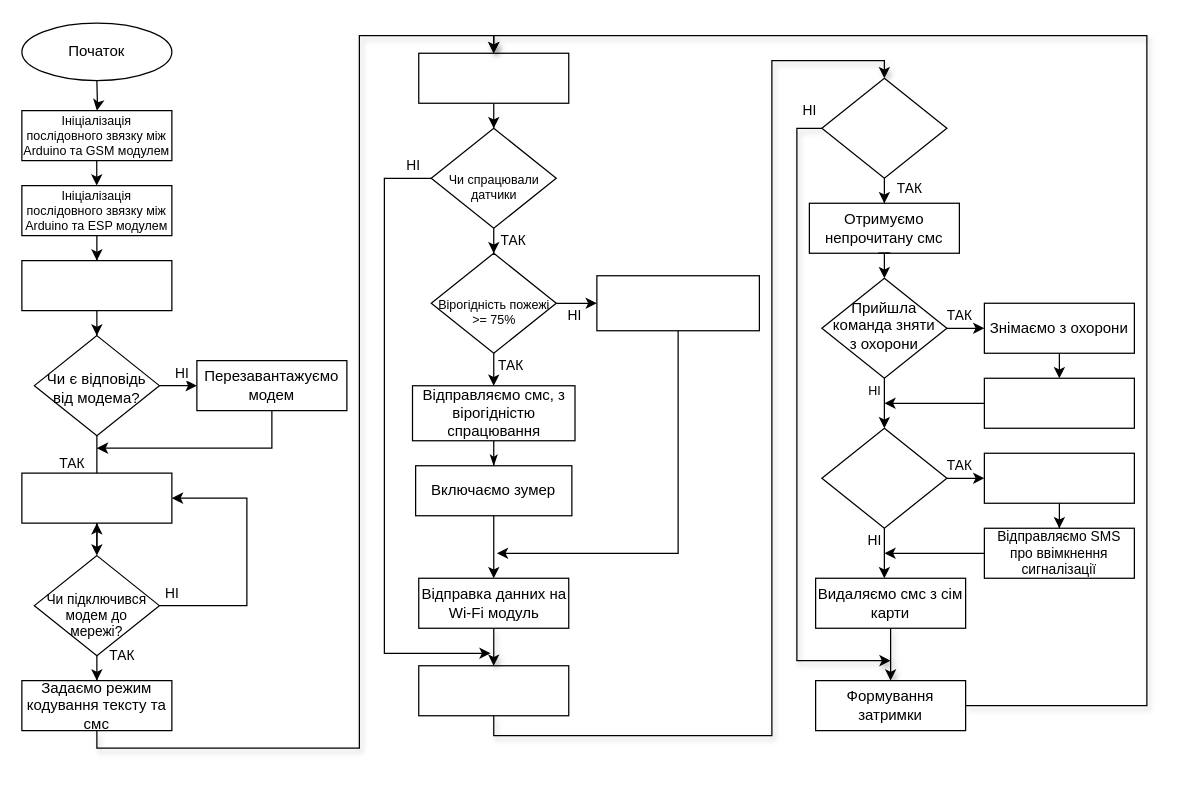
Image size: 1186x789. Some labels were removed from this diagram. Each missing label, with the centre of its shape:
"Відправляємо SMS про вимкнення сигналізації" goes at (x=1058, y=402).
"Відправляємо смс, про можливе хибне спрацювання" goes at (x=677, y=302).
"Запит датчиків" goes at (x=493, y=77).
"Перевірка відповіді модема" goes at (x=96, y=285).
"Перевірка непрочитаних смс" goes at (x=493, y=690).
"Перевірка підключення модему до мережі" goes at (x=96, y=497).
"Прийшла команда поставити на охорону" goes at (x=884, y=477).
"Ставимо на охорону" goes at (x=1058, y=477).
"Чи є новоприбулі команди?" goes at (x=884, y=127).
